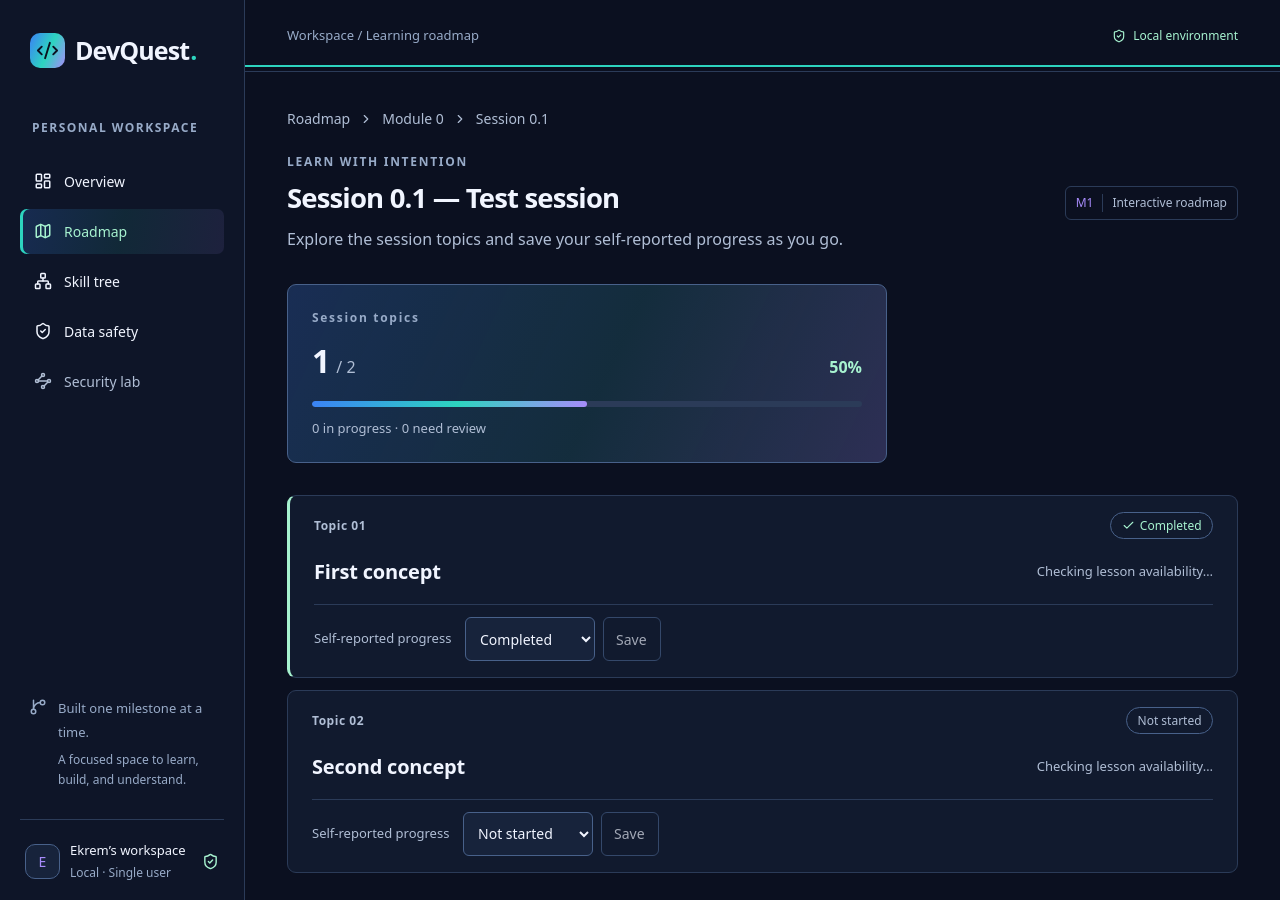
Test case: interactive roadmap › handles a 409 mutation error without claiming it saved
Select "Completed" in the dropdown named "Status for Second concept" at (528, 834), box [463,812,593,856]
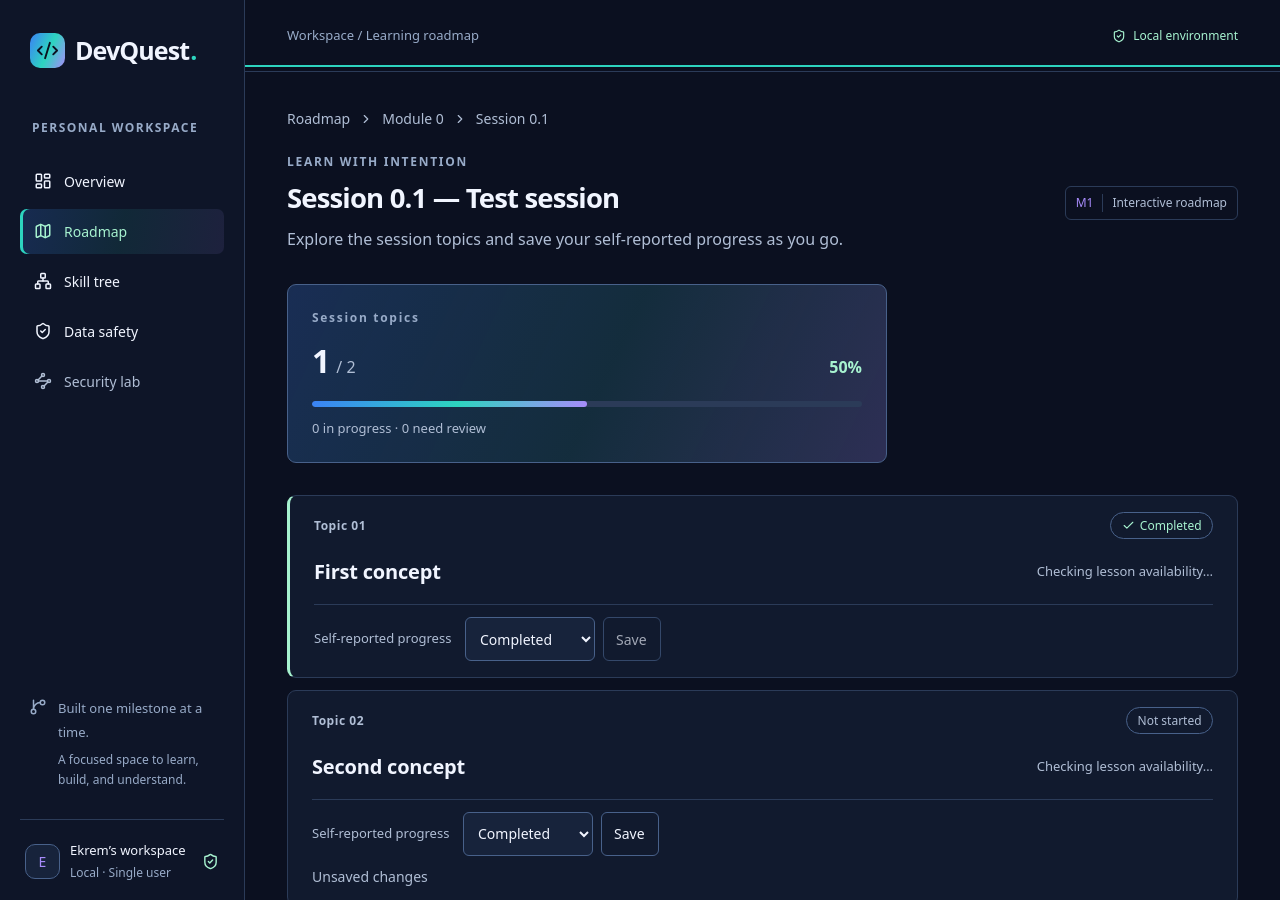
Click the button with aria-label "Save progress for Second concept" at (630, 834), box [601,812,659,856]
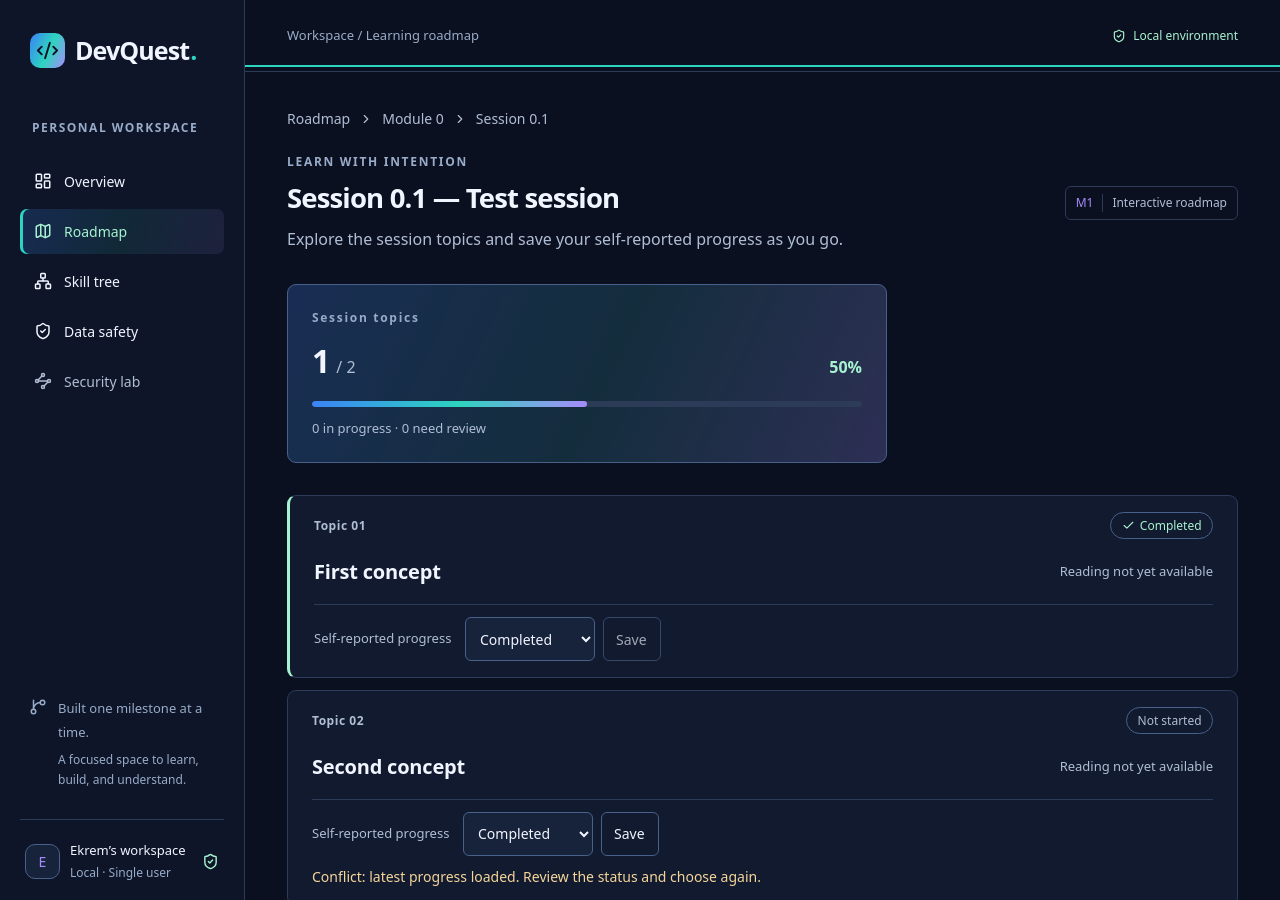
Check: the message shows "Conflict:", box [312,867,761,886]
